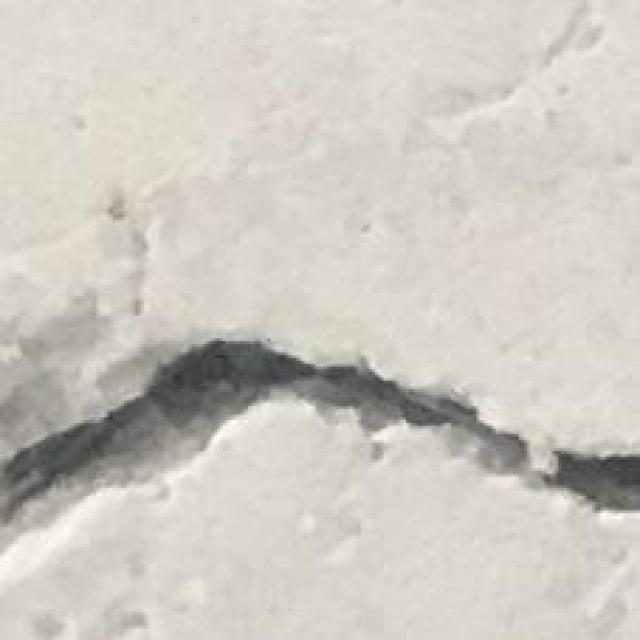Crack: (3, 327, 640, 570)
